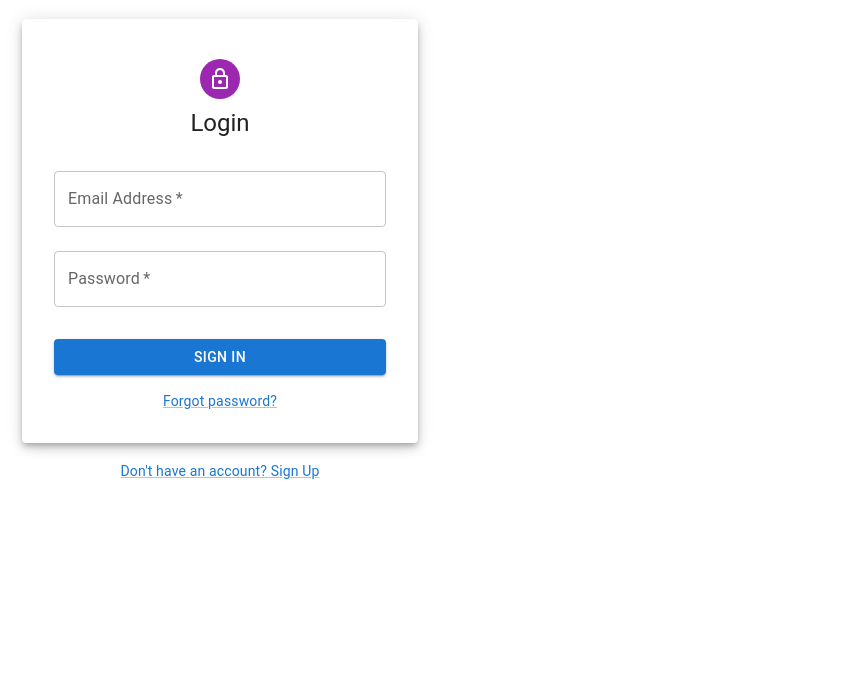
Test: SignIn Page › displays validation error when fields are empty
This screenshot has width=853, height=694.
What coordinates should you click on to do the following:
click the button "Sign In"
I would click on:
 (220, 357)
Its box is 54,339 -> 386,375.
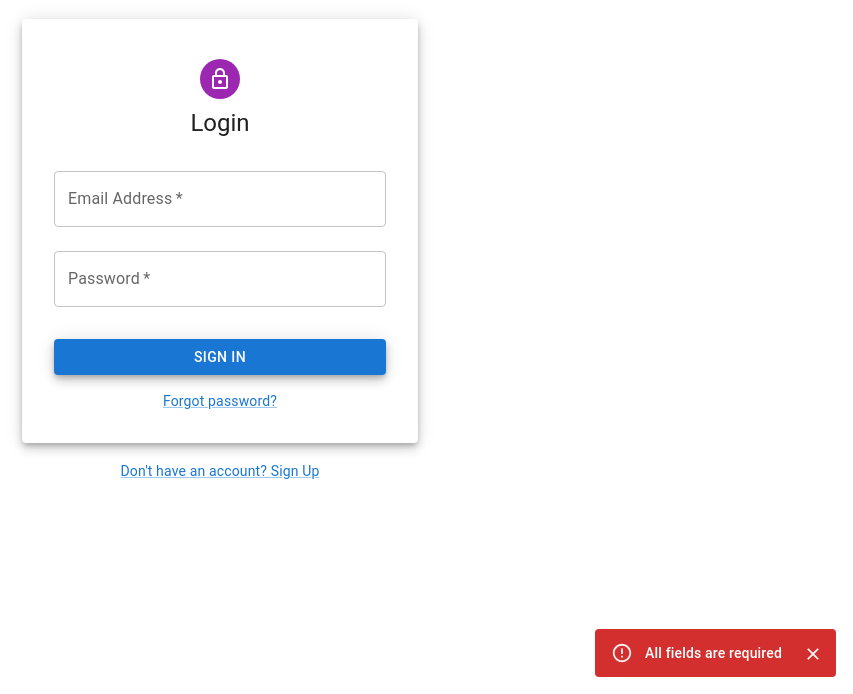
Result: the text "All fields are required" is shown at 645,645 -> 782,661
